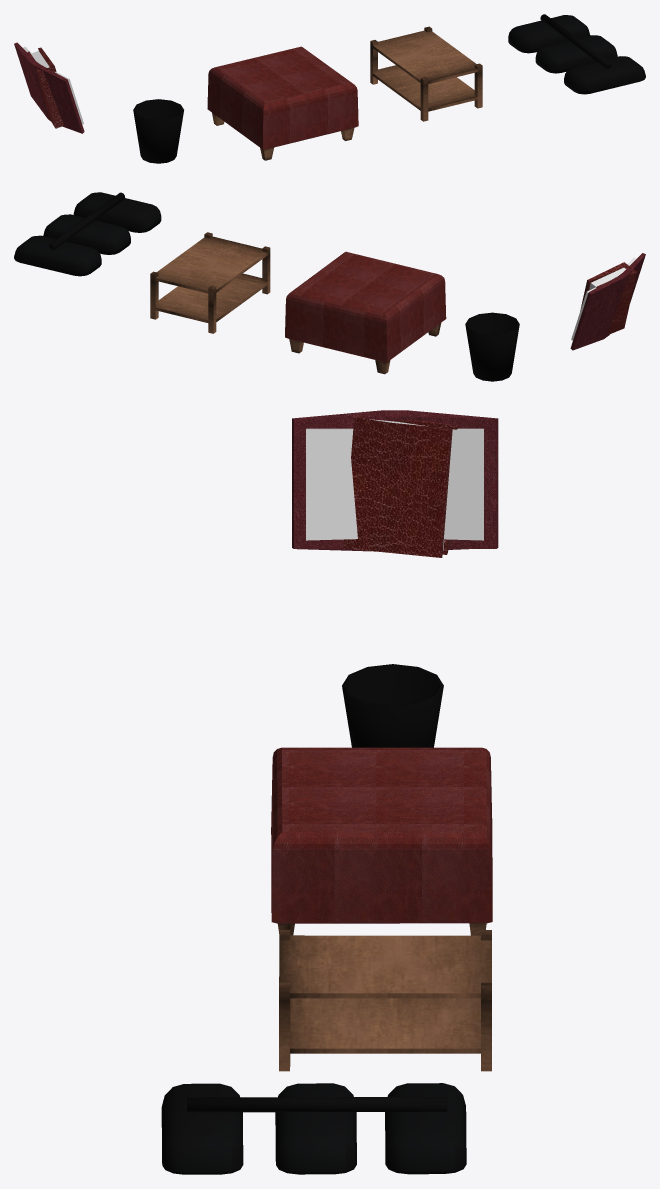
File: props.gltf
The picture shows the model from 3 angles, top to bottom: view 1: azimuth 30°, elevation 25°; view 2: azimuth 150°, elevation 25°; view 3: azimuth 270°, elevation 25°; orthographic projection. The views are drawn at different scales.
Visible parts, largest first — view 1: Cube.004, Cube, Cylinder.011, Cylinder, book_open, book_closed; view 2: Cube.004, Cube, Cylinder.011, Cylinder, book_open, book_closed; view 3: Cube.004, Cube, Cylinder.011, book_open, book_closed, Cylinder.
Part boxes in pixels (<box>): Cube.004: <box>207,46,358,160</box>; Cube: <box>370,26,482,121</box>; Cylinder.011: <box>508,14,645,94</box>; Cylinder: <box>133,99,183,163</box>; book_open: <box>14,42,84,133</box>; book_closed: <box>27,47,63,128</box>; Cube.004: <box>285,251,446,374</box>; Cube: <box>150,232,270,333</box>; Cylinder.011: <box>14,192,161,276</box>; Cylinder: <box>465,312,519,381</box>; book_open: <box>570,253,645,350</box>; book_closed: <box>580,262,636,334</box>; Cube.004: <box>271,747,492,935</box>; Cube: <box>279,930,491,1071</box>; Cylinder.011: <box>161,1083,466,1174</box>; book_open: <box>292,410,498,551</box>; book_closed: <box>343,414,458,557</box>; Cylinder: <box>342,664,443,747</box>.
Bounding box in the file's own units: 8.29 × 1.81 × 2.15.
Materials: 6 (4 with a texture image).
